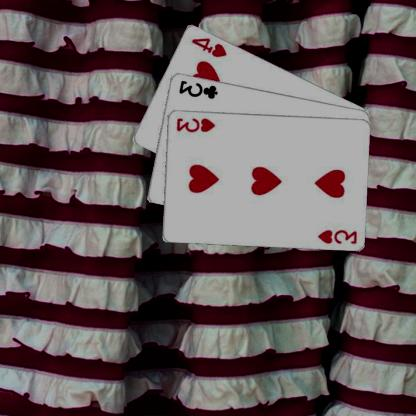3C: (178, 78, 220, 100)
3H: (317, 227, 359, 245), (176, 116, 217, 133)
4H: (190, 35, 230, 58)
